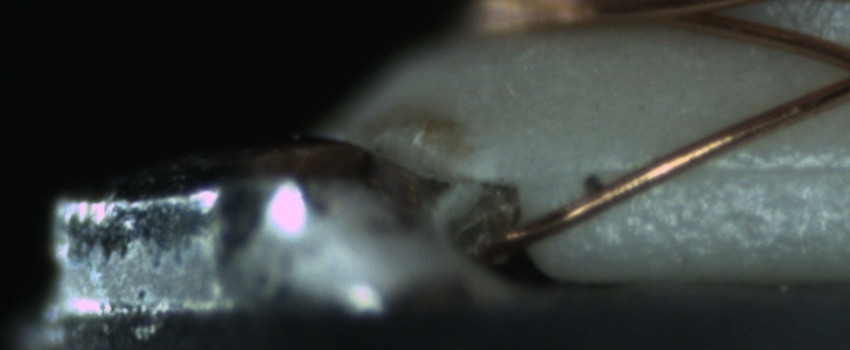CL: (833, 44, 850, 96)
DL: (605, 138, 849, 201)
